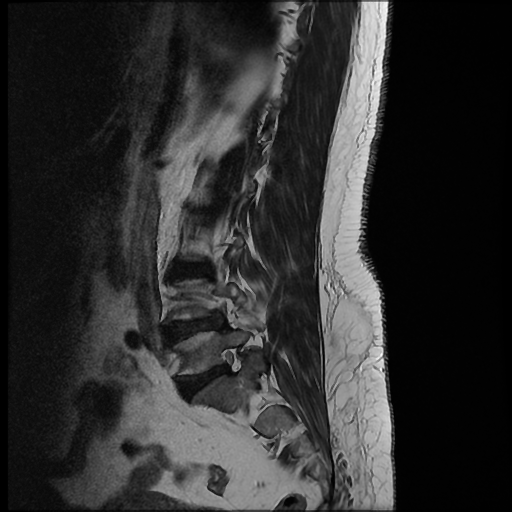RFS0: (212, 341, 259, 384)
